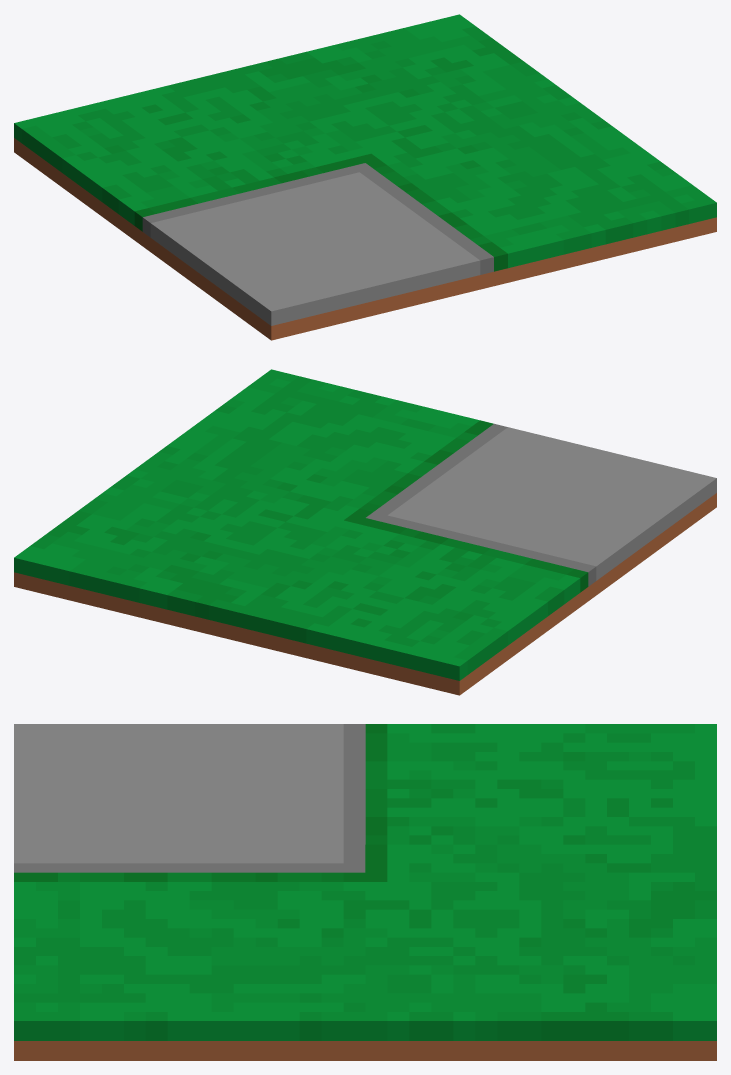
Rendered from forest-city-edgy-edge-inner-1.gltf.
3 renders of one model, top to bottom at view 1: azimuth 30°, elevation 25°; view 2: azimuth 150°, elevation 25°; view 3: azimuth 270°, elevation 25°, orthographic. The views are drawn at different scales.
Visible parts, largest first — view 1: forest-city-edgy-edge-inner-1; view 2: forest-city-edgy-edge-inner-1; view 3: forest-city-edgy-edge-inner-1.
Boxes of the visible parts, bbox=[...] form: forest-city-edgy-edge-inner-1: bbox=[14, 14, 716, 340]; forest-city-edgy-edge-inner-1: bbox=[14, 369, 716, 695]; forest-city-edgy-edge-inner-1: bbox=[14, 724, 716, 1060].
Size of the model in its own units: 3.2 by 0.2 by 3.2.
Materials: 1 (1 with a texture image).
